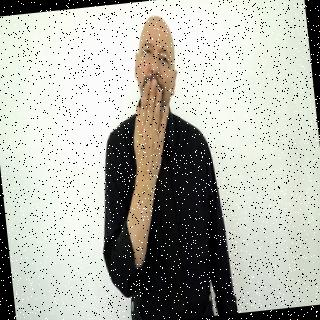ThankYou: (79, 7, 239, 320)
